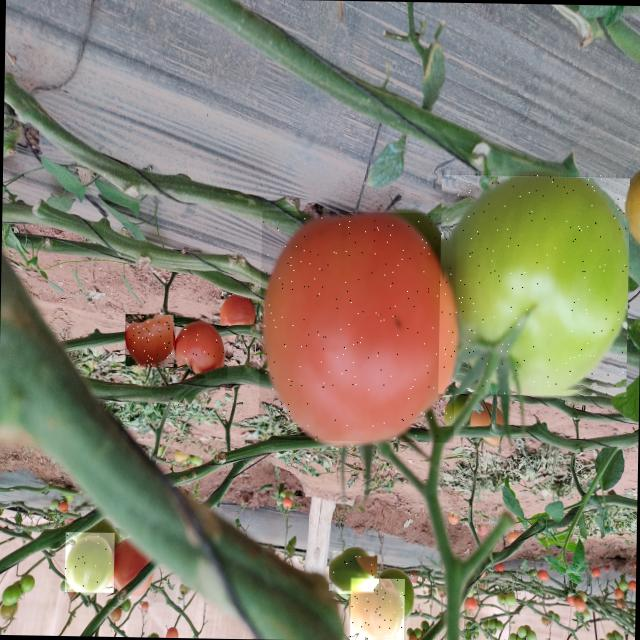Ripe Tomato: (258, 210, 457, 442), (173, 317, 228, 378), (124, 314, 176, 368)
Unripe Tomato: (438, 170, 630, 396), (349, 577, 404, 640), (64, 532, 114, 592), (331, 550, 374, 594)
